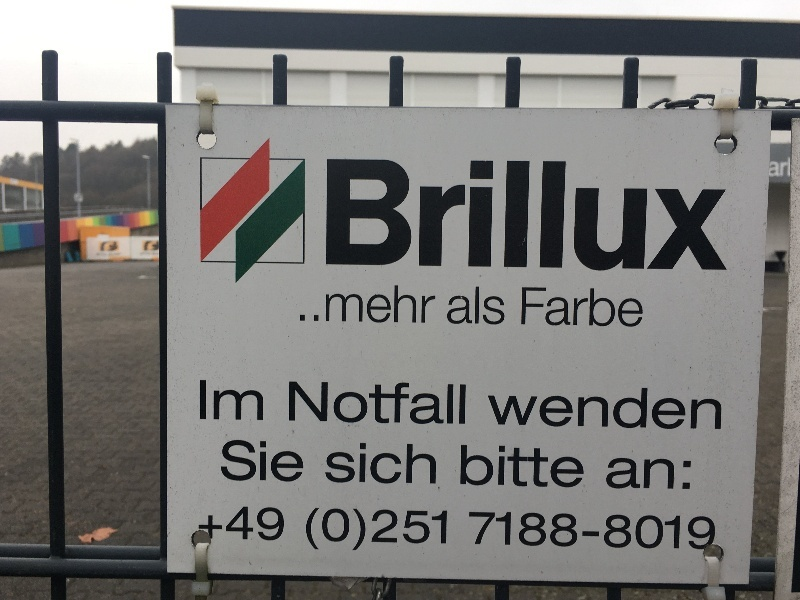text: (337, 160, 352, 273), (353, 160, 368, 273), (369, 160, 384, 273), (385, 160, 400, 273), (401, 160, 416, 273), (417, 160, 432, 273), (433, 160, 448, 273), (449, 160, 464, 273), (465, 160, 480, 273), (481, 160, 496, 273), (497, 160, 512, 273), (513, 160, 528, 273), (529, 160, 544, 273), (545, 160, 560, 273), (561, 160, 576, 273), (577, 160, 592, 273), (593, 160, 608, 273), (609, 160, 624, 273), (625, 160, 640, 273), (641, 160, 656, 273), (657, 160, 672, 273), (673, 160, 688, 273), (689, 160, 704, 273), (705, 160, 720, 273), (327, 160, 336, 273), (721, 160, 728, 273), (529, 286, 544, 330), (545, 286, 560, 330), (561, 286, 576, 330), (577, 286, 592, 330), (593, 286, 608, 330), (609, 286, 624, 330), (625, 286, 640, 330), (497, 386, 512, 430), (513, 386, 528, 430), (529, 386, 544, 430), (545, 386, 560, 430), (561, 386, 576, 430), (577, 386, 592, 430), (593, 386, 608, 430), (609, 386, 624, 430), (625, 386, 640, 430), (641, 386, 656, 430), (657, 386, 672, 430), (673, 386, 688, 430), (689, 386, 704, 430), (705, 386, 720, 430), (225, 440, 240, 484), (241, 440, 256, 484), (257, 440, 272, 484), (273, 440, 288, 484), (289, 440, 304, 484), (305, 282, 320, 325), (321, 282, 336, 325), (337, 282, 352, 325), (353, 282, 368, 325), (369, 282, 384, 325), (385, 282, 400, 325), (401, 282, 416, 325), (417, 282, 432, 325), (289, 382, 304, 425), (305, 382, 320, 425), (321, 382, 336, 425), (337, 382, 352, 425), (353, 382, 368, 425), (369, 382, 384, 425), (385, 382, 400, 425), (401, 382, 416, 425), (417, 382, 432, 425), (433, 382, 448, 425), (449, 382, 464, 425), (337, 442, 352, 485), (353, 442, 368, 485), (369, 442, 384, 485), (385, 442, 400, 485), (401, 442, 416, 485), (417, 442, 432, 485), (465, 446, 480, 488), (481, 446, 496, 488), (497, 446, 512, 488), (513, 446, 528, 488), (529, 446, 544, 488), (545, 446, 560, 488), (561, 446, 576, 488), (321, 509, 336, 551), (337, 509, 352, 551), (353, 509, 368, 551), (369, 509, 384, 551), (385, 509, 400, 551), (401, 509, 416, 551), (417, 509, 432, 551), (433, 509, 448, 551), (465, 286, 480, 327), (481, 286, 496, 327), (209, 380, 224, 420), (225, 380, 240, 420), (241, 380, 256, 420), (450, 286, 464, 327), (609, 455, 624, 493), (625, 455, 640, 493), (641, 455, 656, 493), (657, 455, 672, 493), (673, 455, 688, 493), (481, 513, 496, 551), (497, 513, 512, 551), (513, 513, 528, 551), (529, 513, 544, 551), (545, 513, 560, 551), (561, 513, 576, 551), (577, 513, 592, 551), (593, 513, 608, 551), (609, 513, 624, 551), (625, 513, 640, 551), (641, 513, 656, 551), (657, 513, 672, 551), (673, 513, 688, 551), (689, 513, 704, 551), (209, 507, 224, 542), (225, 507, 240, 542), (241, 507, 256, 542), (257, 507, 272, 542), (485, 386, 496, 430), (309, 509, 320, 551), (705, 513, 717, 551), (273, 507, 285, 542), (469, 513, 480, 551), (497, 286, 506, 327), (200, 380, 208, 420), (199, 507, 208, 542), (329, 442, 336, 485), (577, 446, 584, 488), (770, 157, 784, 178), (257, 380, 264, 420), (523, 286, 528, 330), (433, 442, 438, 485), (433, 282, 437, 325), (641, 286, 644, 330), (301, 282, 304, 325), (461, 446, 464, 488), (785, 157, 791, 178), (689, 455, 692, 493), (721, 386, 723, 430), (222, 440, 224, 484), (465, 382, 467, 425)
